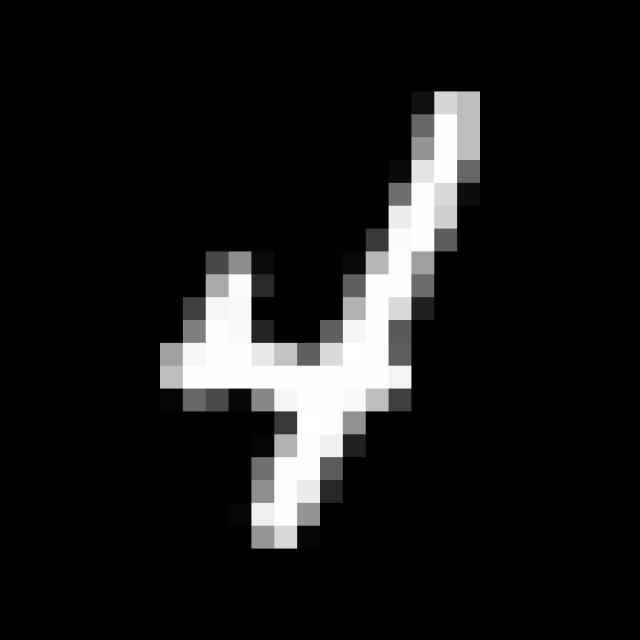four -4-: (142, 66, 509, 576)
